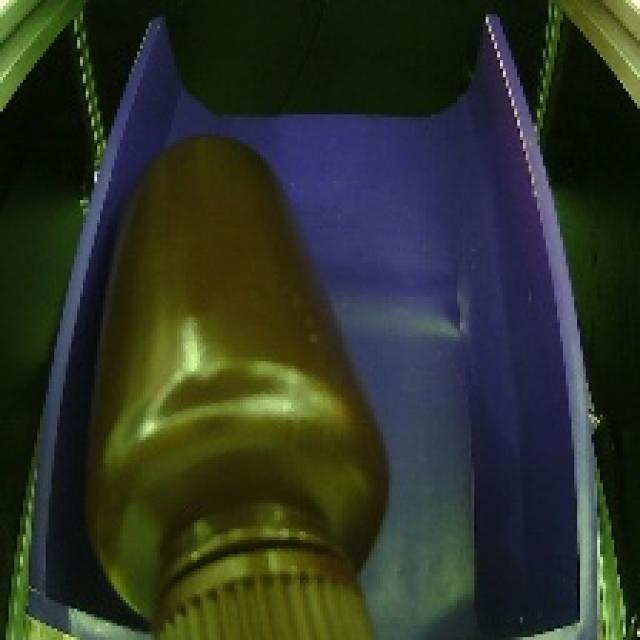plastic: (72, 131, 406, 640)
